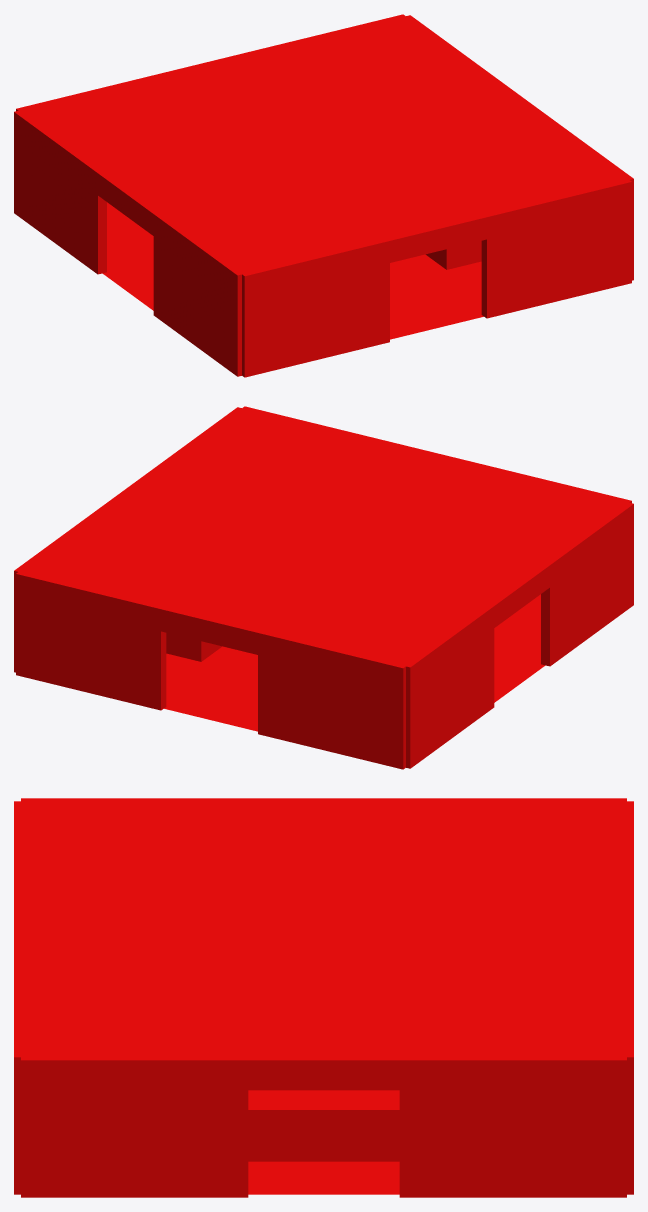
The model's file is cave_room_d.dae.
The picture shows the model from 3 angles, top to bottom: view 1: azimuth 30°, elevation 25°; view 2: azimuth 150°, elevation 25°; view 3: azimuth 270°, elevation 25°; orthographic projection. The views are drawn at different scales.
Visible parts, largest first — view 1: Plane.001, Cube.009, Cube.010, Cube.004, Cube.003, Plane, Cube.011, Cube.005, Cube.012, Cube.007, Cube.001, Cube (+3 smaller); view 2: Plane.001, Cube.007, Cube.006, Cube.004, Cube.003, Plane, Cube.008, Cube.005, Cube.012, Cube.010, Cube, Cube.009 (+3 smaller); view 3: Plane.001, Cube.001, Cube, Cube.012, Cube.002, Plane, Cube.010, Cube.007, Cube.004, Cube.003, Cube.009, Cube.006 (+3 smaller).
Part boxes in pixels (box(x1,y1,x2,y2)): Plane.001: box(19, 18, 628, 271); Cube.009: box(240, 237, 389, 377); Cube.010: box(481, 180, 631, 318); Cube.004: box(14, 111, 106, 274); Cube.003: box(153, 212, 243, 376); Plane: box(102, 202, 483, 339); Cube.011: box(385, 214, 486, 262); Cube.005: box(98, 171, 162, 235); Cube.012: box(425, 240, 481, 269); Cube.007: box(258, 14, 407, 53); Cube.001: box(404, 15, 493, 78); Cube: box(542, 117, 633, 280); Plane.001: box(19, 411, 628, 664); Cube.007: box(16, 571, 166, 710); Cube.006: box(258, 629, 407, 769); Cube.004: box(404, 604, 494, 768); Cube.003: box(541, 503, 633, 666); Plane: box(164, 594, 545, 731); Cube.008: box(161, 606, 262, 654); Cube.005: box(485, 563, 549, 627); Cube.012: box(166, 632, 222, 661); Cube.010: box(240, 406, 389, 445); Cube: box(154, 407, 243, 470); Cube.009: box(482, 465, 631, 503); Plane.001: box(21, 801, 626, 1054); Cube.001: box(399, 1054, 626, 1197); Cube: box(21, 1054, 248, 1197); Cube.012: box(248, 1090, 399, 1161); Cube.002: box(248, 1054, 399, 1090); Plane: box(248, 1161, 399, 1194); Cube.010: box(14, 961, 28, 1194); Cube.007: box(619, 961, 633, 1194); Cube.004: box(399, 798, 626, 804); Cube.003: box(21, 798, 248, 804); Cube.009: box(14, 801, 28, 897); Cube.006: box(619, 801, 633, 897).
Size of the model in its own units: 1048 by 1048 by 256.
